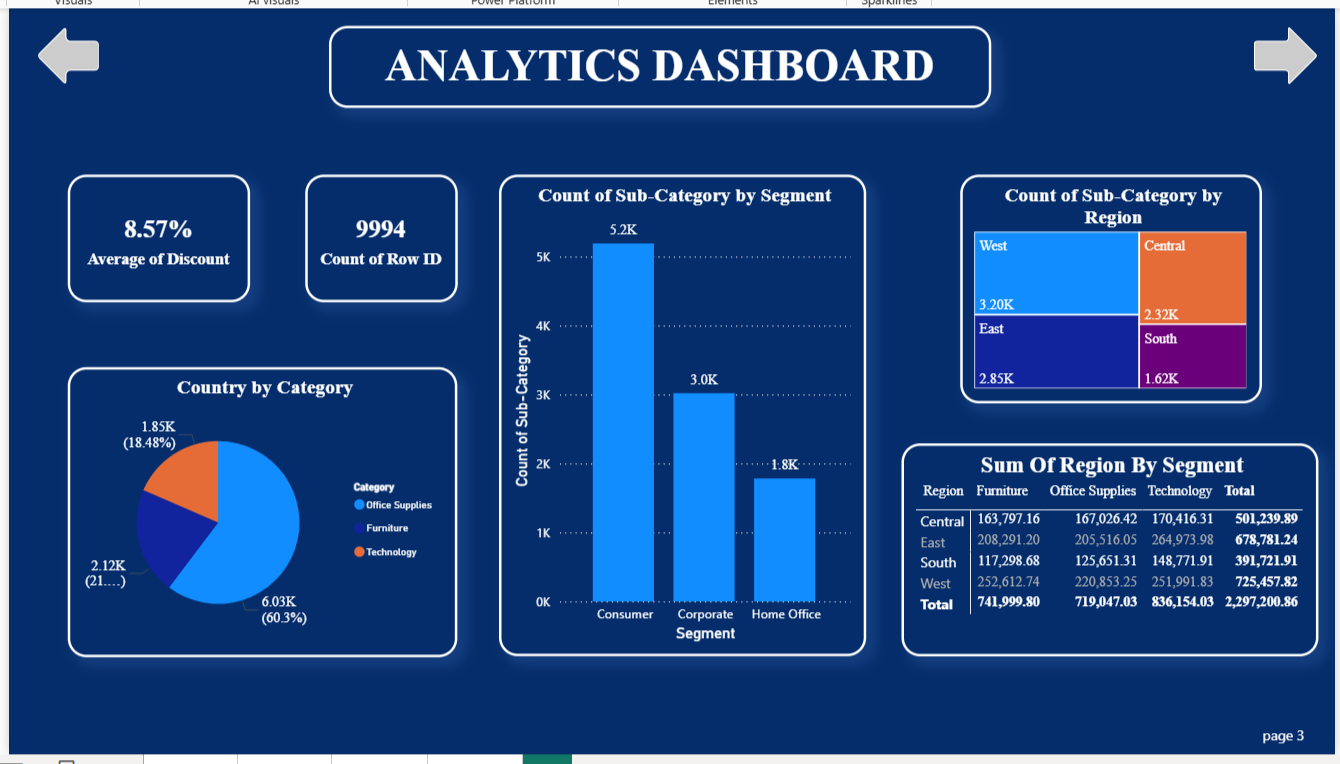

Layout of this report page (visuals, bound fields, positions):
{"tool":"powerbi","page":{"name":"Page 1","canvas":[1280,720],"ordinal":1},"visuals":[{"type":"shape","box":[1202.1,16.5,61.7,57.6],"z":0},{"type":"shape","box":[26.1,16.5,60.4,57.6],"z":1000},{"type":"textbox","box":[308.7,16.5,639.5,79.6],"z":2000},{"type":"pieChart","title":"Country by Category","fields":{"Category":["Orders.Category"],"Y":["CountNonNull(Orders.Country)"]},"box":[56.3,345.8,376,279.9],"z":3000},{"type":"treemap","fields":{"Group":["Orders.Region"],"Values":["CountNonNull(Orders.Sub-Category)"]},"box":[918,160.5,290.9,220.9],"z":4000},{"type":"pivotTable","title":"Sum Of Region By Segment","fields":{"Rows":["Orders.Region"],"Values":["Sum(Orders.Sales)"],"Columns":["Orders.Category"]},"box":[861.8,419.9,402.1,205.8],"z":5000},{"type":"columnChart","fields":{"Category":["Orders.Segment"],"Y":["CountNonNull(Orders.Sub-Category)"]},"box":[473.4,160.5,354,465.2],"z":6000},{"type":"card","fields":{"Values":["Avg(Orders.Discount)"]},"box":[56.3,160.5,175.6,123.5],"z":7000},{"type":"card","fields":{"Values":["CountNonNull(Orders.Row ID)"]},"box":[285.4,160.5,146.8,123.5],"z":8000},{"type":"actionButton","box":[1180.1,680.6,100.2,39.8],"z":9000}]}

Visuals, with their boxes in screenshot pixels (x1, y1, x2, y2):
shape: 1248:24:1312:83
shape: 34:24:96:83
textbox: 326:24:986:106
"Country by Category" pieChart: 65:364:453:653
treemap - Orders.Region x CountNonNull(Orders.Sub-Category): 955:173:1255:401
"Sum Of Region By Segment" pivotTable: 897:440:1312:653
columnChart - Orders.Segment x CountNonNull(Orders.Sub-Category): 496:173:861:653
card - Avg(Orders.Discount): 65:173:246:300
card - CountNonNull(Orders.Row ID): 302:173:453:300
actionButton: 1225:710:1329:751
